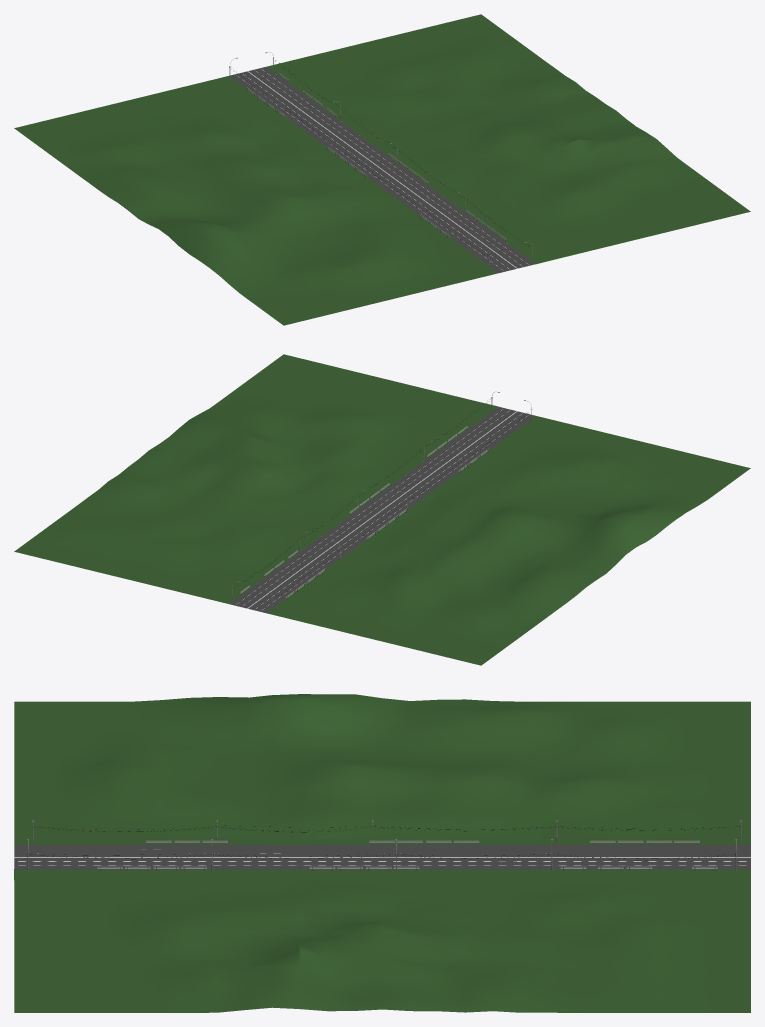
The model's file is TileHighway4_1.fbx.
The picture shows the model from 3 angles, top to bottom: view 1: azimuth 30°, elevation 25°; view 2: azimuth 150°, elevation 25°; view 3: azimuth 270°, elevation 25°; orthographic projection. The views are drawn at different scales.
Parts seen in each view (by area): view 1: Plane.013, Road; view 2: Plane.013, Road; view 3: Plane.013, Road.
Part boxes in pixels (bbox=[...]): Plane.013: bbox=[14, 14, 750, 325]; Road: bbox=[229, 67, 534, 272]; Plane.013: bbox=[14, 354, 750, 665]; Road: bbox=[229, 407, 535, 612]; Plane.013: bbox=[14, 694, 750, 1012]; Road: bbox=[14, 845, 750, 869].
Bounding box in the file's own units: 20015 × 806 × 20011.
